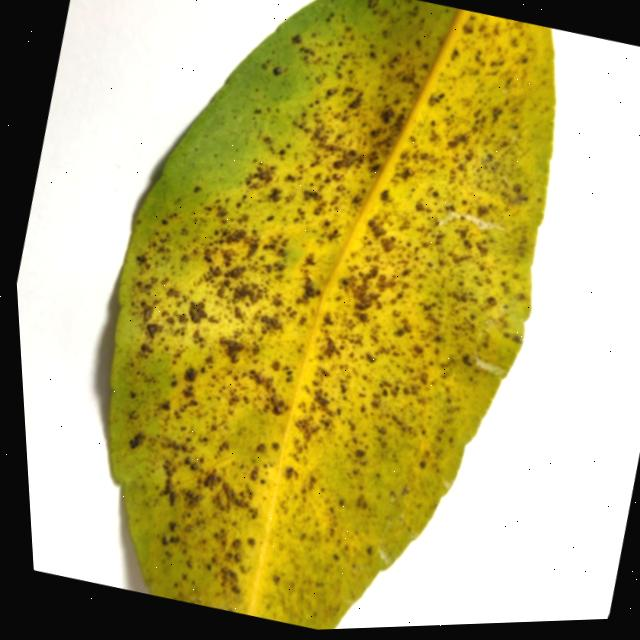melanose: (109, 0, 554, 630)
